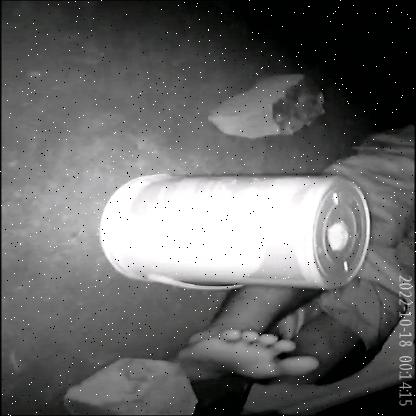leg: (146, 285, 328, 392)
